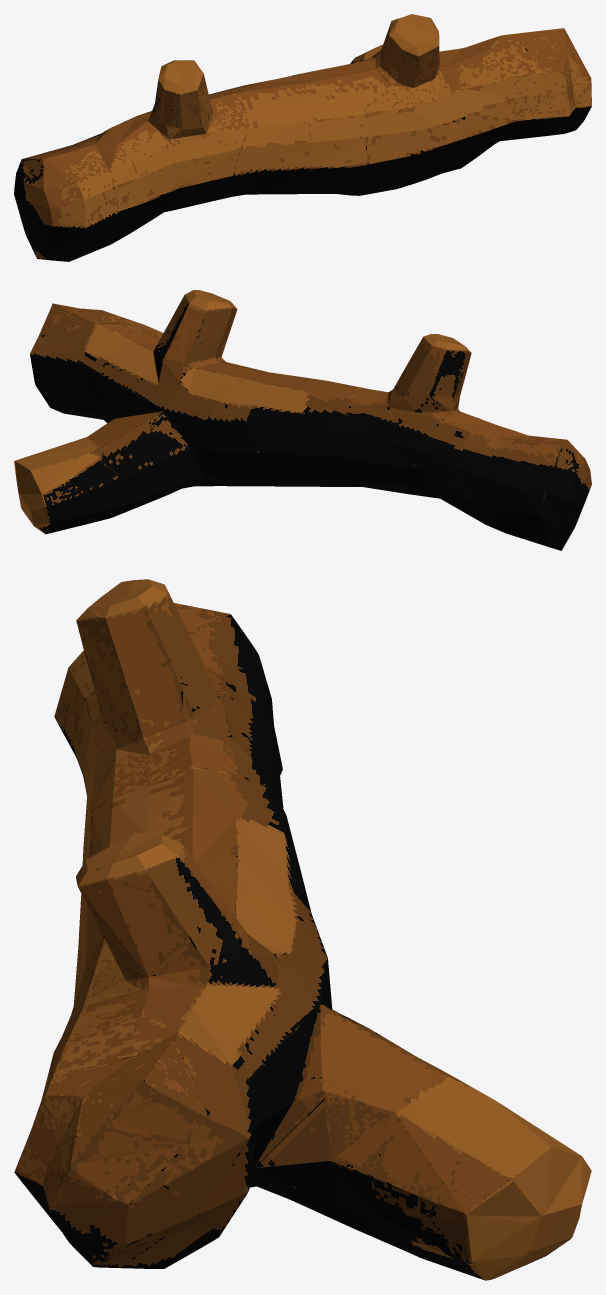
3 views of the same model, one above another, from view 1: azimuth 30°, elevation 25°; view 2: azimuth 150°, elevation 25°; view 3: azimuth 270°, elevation 25° (orthographic). The views are drawn at different scales.
Visible parts, largest first — view 1: OBJ124; view 2: OBJ124; view 3: OBJ124.
Part boxes in pixels (x1,y1,x2,y2): OBJ124: [14, 14, 591, 261]; OBJ124: [14, 290, 591, 550]; OBJ124: [14, 579, 591, 1280].
Bounding box in the file's own units: 0.317 × 0.1081 × 0.1459.
1 material, 1 textured.
